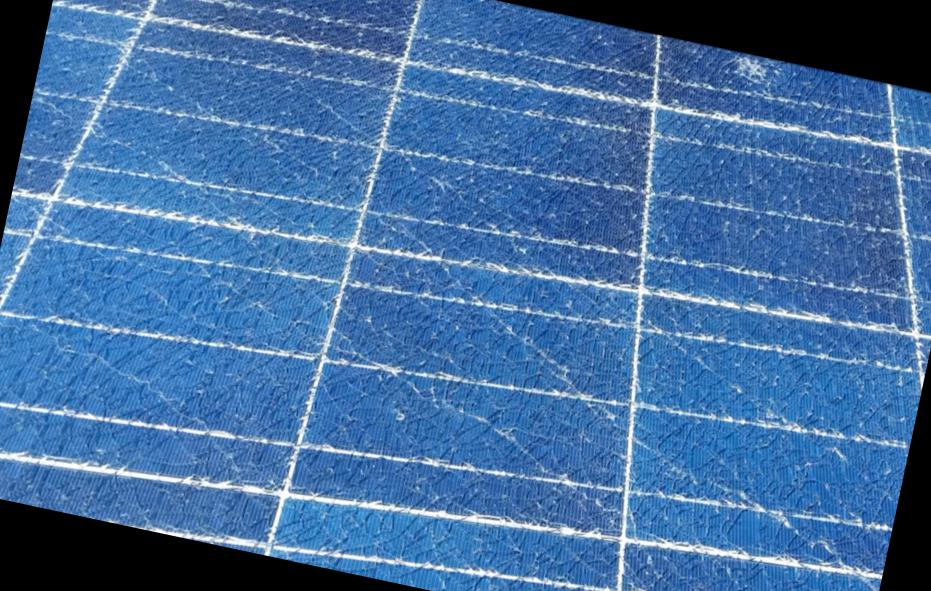Crack: (668, 42, 830, 143)
